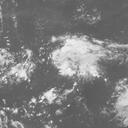cyclone: (49, 34, 103, 80)
